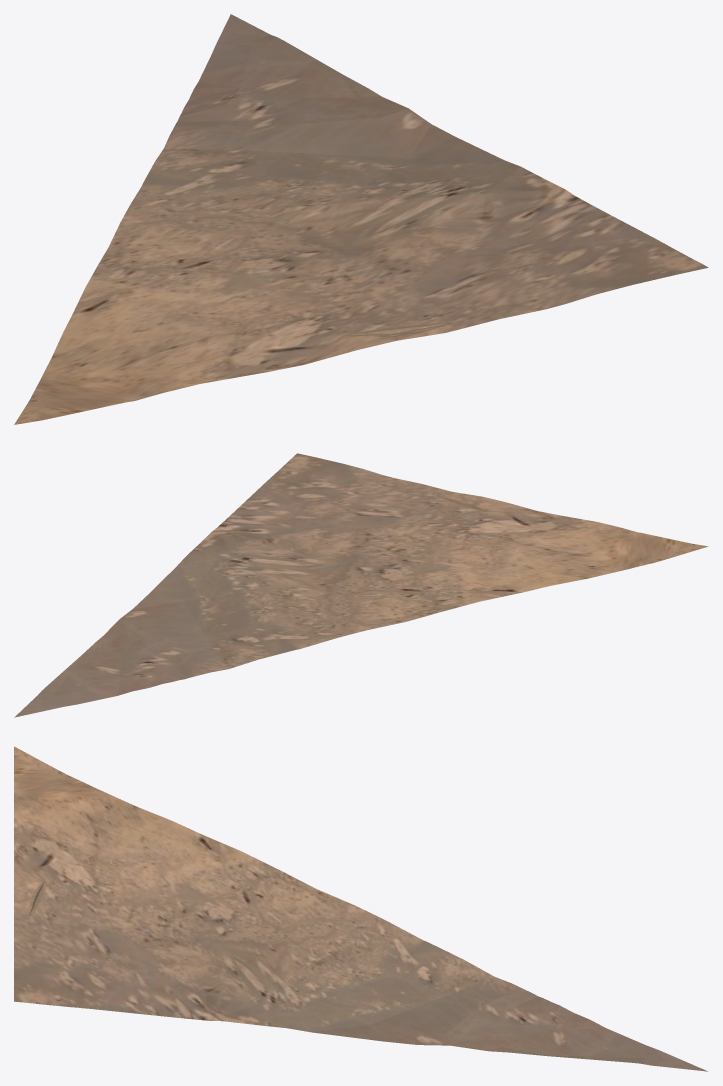
3 renders of one model, top to bottom at view 1: azimuth 30°, elevation 25°; view 2: azimuth 150°, elevation 25°; view 3: azimuth 270°, elevation 25°, orthographic. The views are drawn at different scales.
Size of the model in its own units: 6.97 by 1.04 by 8.31.
Materials: 1 (1 with a texture image).
